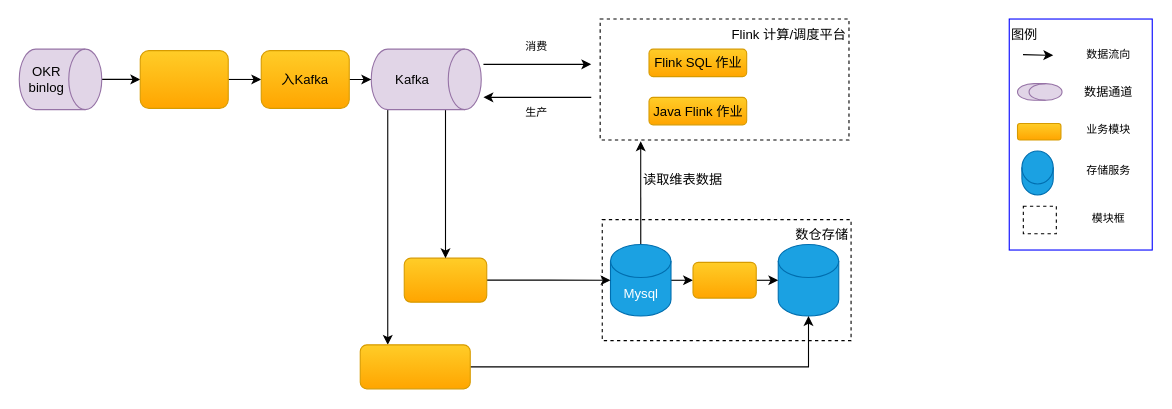
This 1172x409 diagram has some shape labels left out. Here are the shapes that lost their labels. From the top down, the centre of each, then its label:
At (183,79): "数据脱敏".
At (445,279): "Kafka2Mysql".
At (724,279): "Mysql2CH".
At (808,279): "CH".
At (414,366): "Kafka2CH".
